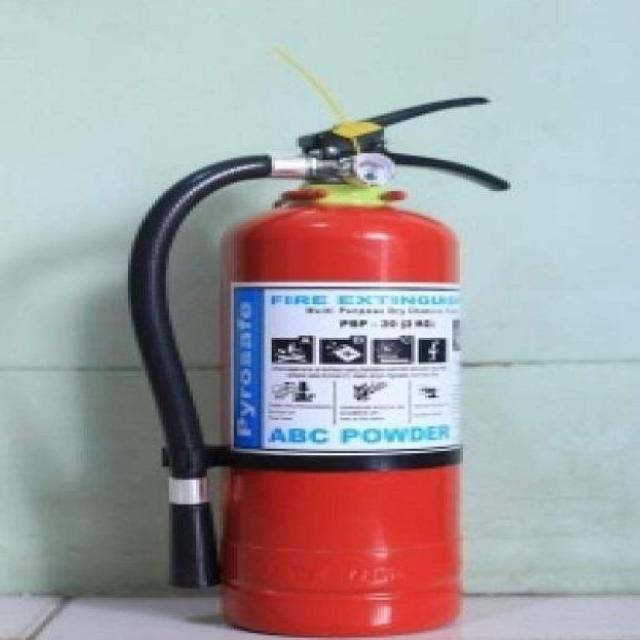fire_extinguisher: (114, 89, 523, 639)
